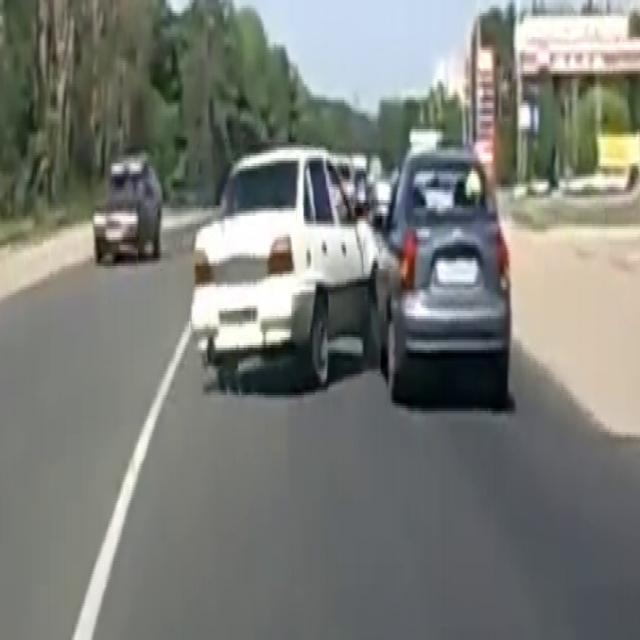accident: (196, 131, 517, 412)
